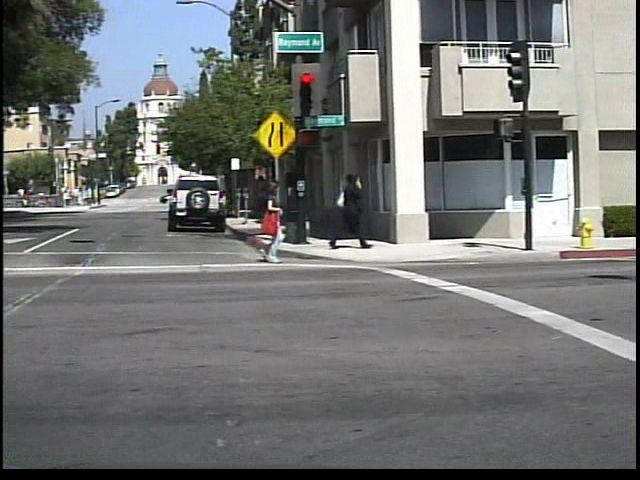person: (251, 177, 301, 265), (335, 166, 375, 252)
